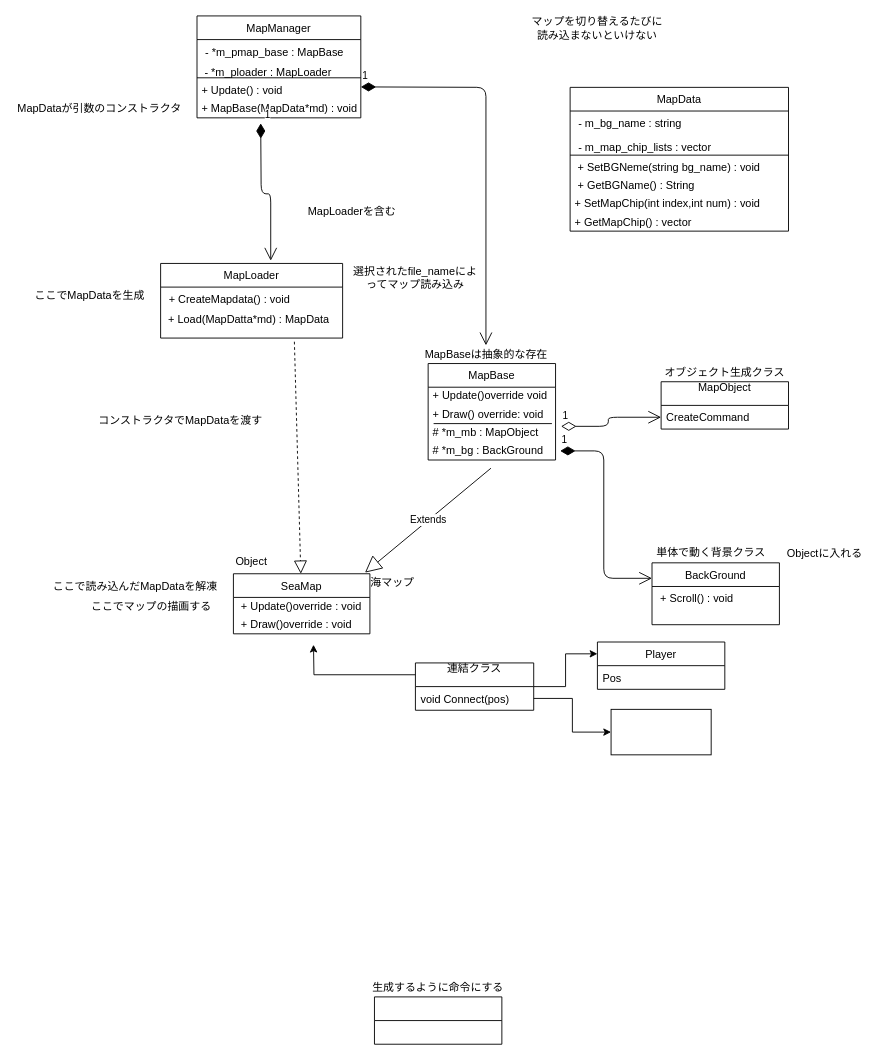
The diagram is 885 pixels wide and 1060 high, and some of its shapes have lost their labels. The shapes that lost their labels are listed below. From the top down, each one's centre as x and y in pixels, then its label:
the point at 660,731: Enemy
the point at 438,1020: EnemyEntryCommand
